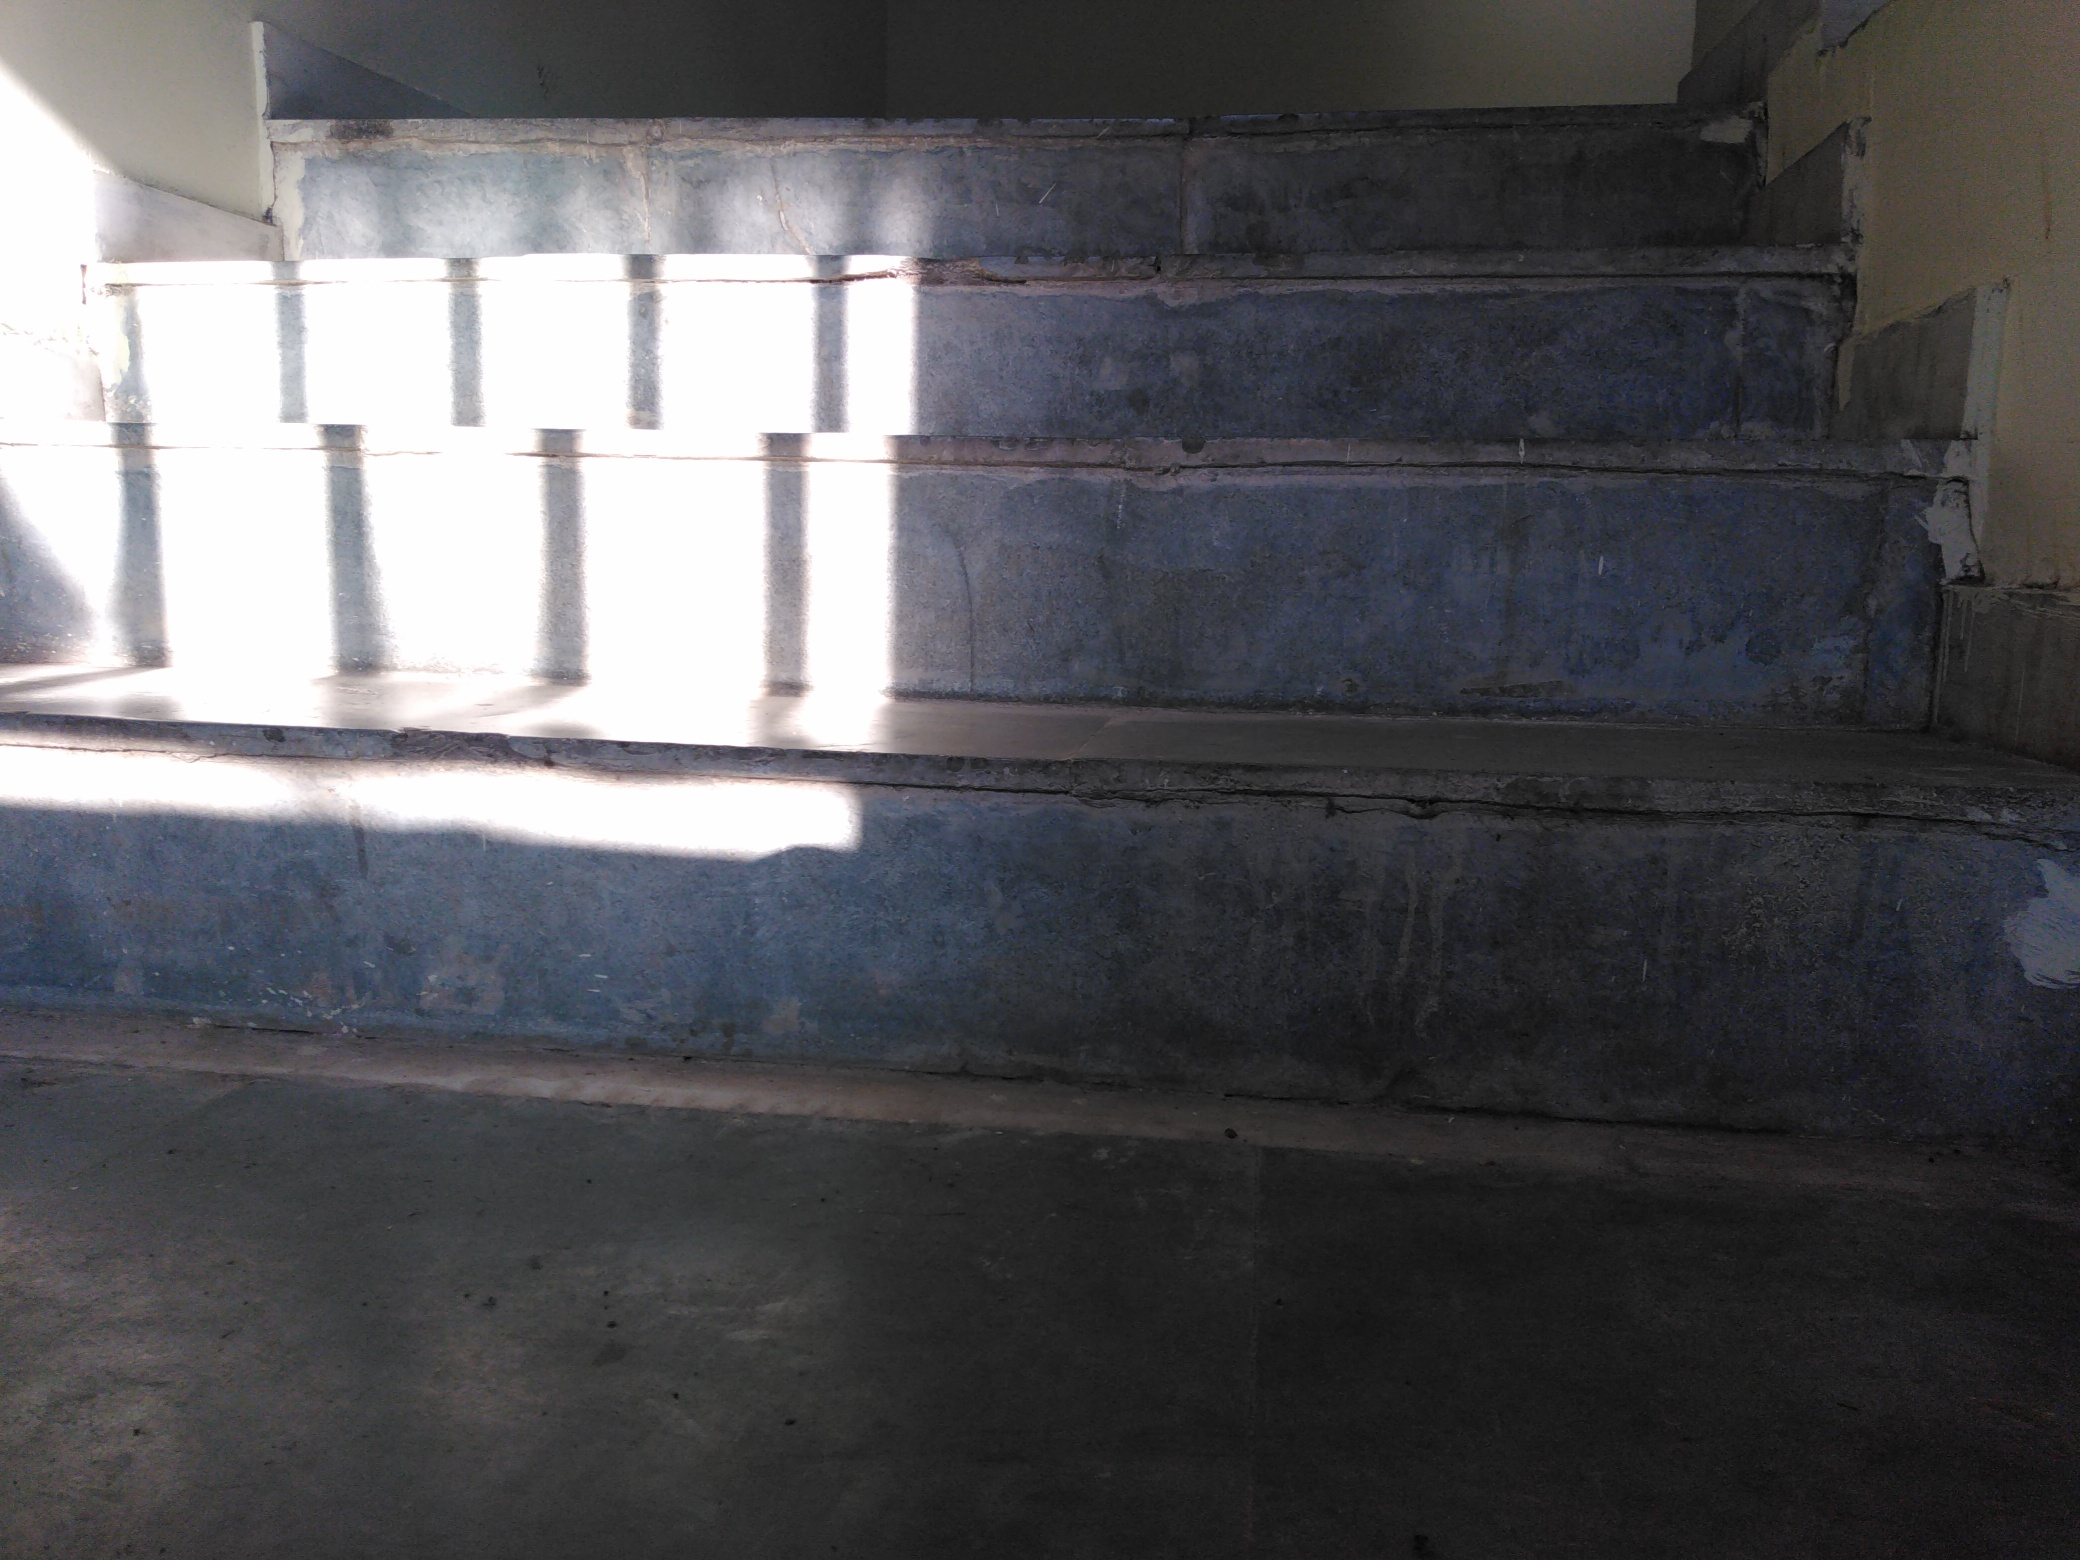stairs_up: (7, 116, 2065, 1118)
